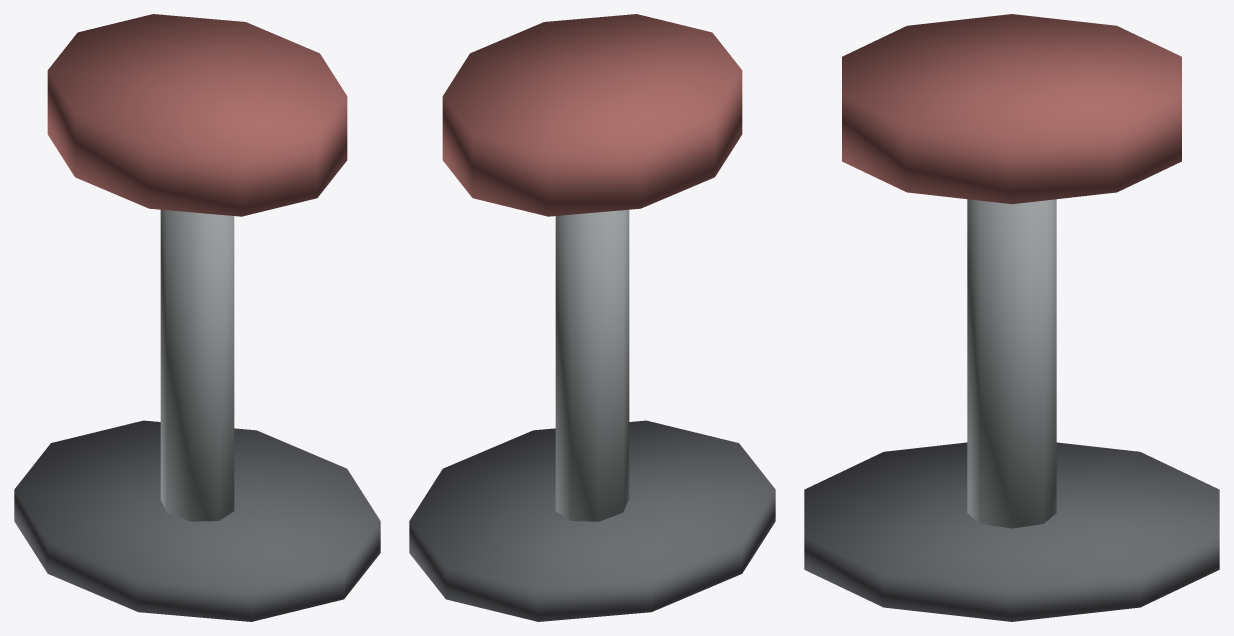
The model's file is diner_counter_stool__deep.glb.
3 renders of one model, left to right at view 1: azimuth 30°, elevation 25°; view 2: azimuth 150°, elevation 25°; view 3: azimuth 270°, elevation 25°, orthographic. The views are drawn at different scales.
Parts seen in each view (by area): view 1: world; view 2: world; view 3: world.
Part boxes in pixels (box(x1,y1,x2,y2)): world: box(14, 14, 380, 621); world: box(409, 14, 775, 621); world: box(804, 14, 1219, 621).
Bounding box in the file's own units: 0.44 × 0.665 × 0.5105.
